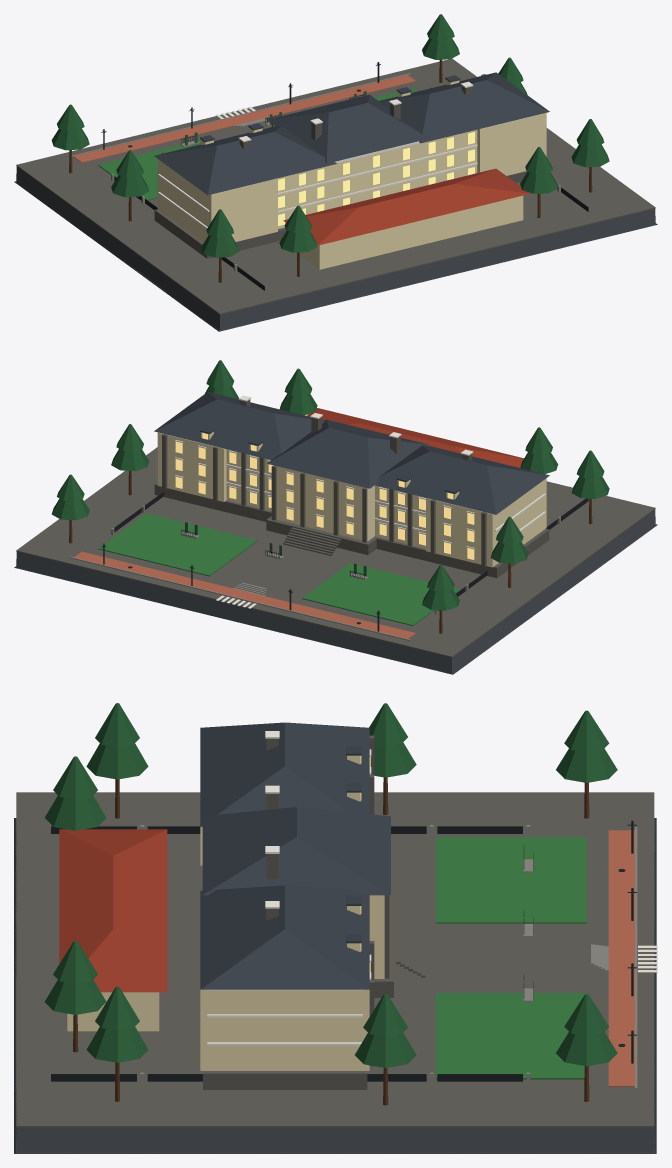
The model's file is lm_29_cuc_ban_do_dalat.glb.
3 renders of one model, top to bottom at view 1: azimuth 30°, elevation 25°; view 2: azimuth 150°, elevation 25°; view 3: azimuth 270°, elevation 25°, orthographic. The views are drawn at different scales.
Parts seen in each view (by area): view 1: Foundation_Plinth_Trim, MapBuilding_Normandy_Ochre_Walls, Foundation_Skirt, MapBuilding_Pine_Canopies, MapBuilding_PrintWorkshop_Hip_Roof, MapBuilding_Wing_Mansard_Slate_Roof_W, MapBuilding_Wing_Mansard_Slate_Roof_E, MapBuilding_Central_Pavilion_Mansard_Roof, Phase2_Interlocking_Brick_Sidewalk, MapBuilding_Glowing_Windows, MapBuilding_Granite_Base_And_Buttresses, MapBuilding_Neoclassical_Trim (+4 smaller); view 2: Foundation_Plinth_Trim, MapBuilding_Normandy_Ochre_Walls, Foundation_Skirt, MapBuilding_Front_Gardens, MapBuilding_Granite_Base_And_Buttresses, MapBuilding_Pine_Canopies, MapBuilding_Wing_Mansard_Slate_Roof_W, MapBuilding_Wing_Mansard_Slate_Roof_E, MapBuilding_Central_Pavilion_Mansard_Roof, MapBuilding_Glowing_Windows, Phase2_Interlocking_Brick_Sidewalk, MapBuilding_PrintWorkshop_Hip_Roof (+3 smaller); view 3: Foundation_Plinth_Trim, MapBuilding_Front_Gardens, MapBuilding_Pine_Canopies, Foundation_Skirt, MapBuilding_Wing_Mansard_Slate_Roof_E, MapBuilding_PrintWorkshop_Hip_Roof, MapBuilding_Normandy_Ochre_Walls, MapBuilding_Central_Pavilion_Mansard_Roof, MapBuilding_Wing_Mansard_Slate_Roof_W, MapBuilding_Granite_Base_And_Buttresses, Phase2_Interlocking_Brick_Sidewalk, Phase2_WroughtIron_Balconies_Railings_Manholes (+4 smaller).
Part boxes in pixels (x1,y1,x2,y2): Foundation_Plinth_Trim: [16, 58, 655, 314]; MapBuilding_Normandy_Ochre_Walls: [157, 80, 546, 269]; Foundation_Skirt: [14, 166, 657, 331]; MapBuilding_Pine_Canopies: [51, 14, 609, 257]; MapBuilding_PrintWorkshop_Hip_Roof: [283, 168, 530, 245]; MapBuilding_Wing_Mansard_Slate_Roof_W: [154, 125, 336, 195]; MapBuilding_Wing_Mansard_Slate_Roof_E: [379, 72, 549, 143]; MapBuilding_Central_Pavilion_Mansard_Roof: [267, 94, 429, 163]; Phase2_Interlocking_Brick_Sidewalk: [73, 75, 415, 162]; MapBuilding_Glowing_Windows: [278, 132, 474, 225]; MapBuilding_Granite_Base_And_Buttresses: [154, 74, 526, 258]; MapBuilding_Neoclassical_Trim: [158, 81, 477, 228]; Foundation_Plinth_Trim: [16, 447, 655, 657]; MapBuilding_Normandy_Ochre_Walls: [157, 431, 546, 567]; Foundation_Skirt: [14, 509, 657, 674]; MapBuilding_Front_Gardens: [98, 513, 459, 625]; MapBuilding_Granite_Base_And_Buttresses: [154, 399, 549, 578]; MapBuilding_Pine_Canopies: [51, 360, 609, 610]; MapBuilding_Wing_Mansard_Slate_Roof_W: [375, 445, 549, 514]; MapBuilding_Wing_Mansard_Slate_Roof_E: [154, 392, 324, 459]; MapBuilding_Central_Pavilion_Mansard_Roof: [267, 419, 429, 488]; MapBuilding_Glowing_Windows: [175, 433, 474, 559]; Phase2_Interlocking_Brick_Sidewalk: [74, 551, 415, 638]; MapBuilding_PrintWorkshop_Hip_Roof: [306, 408, 523, 467]; Foundation_Plinth_Trim: [16, 792, 654, 1127]; MapBuilding_Front_Gardens: [436, 837, 586, 1079]; MapBuilding_Pine_Canopies: [44, 703, 617, 1067]; Foundation_Skirt: [14, 818, 656, 1153]; MapBuilding_Wing_Mansard_Slate_Roof_E: [200, 885, 369, 989]; MapBuilding_PrintWorkshop_Hip_Roof: [59, 829, 167, 992]; MapBuilding_Normandy_Ochre_Walls: [67, 755, 384, 1070]; MapBuilding_Central_Pavilion_Mansard_Roof: [202, 807, 390, 895]; MapBuilding_Wing_Mansard_Slate_Roof_W: [200, 722, 369, 826]; MapBuilding_Granite_Base_And_Buttresses: [203, 735, 425, 1089]; Phase2_Interlocking_Brick_Sidewalk: [608, 830, 634, 1086]; Phase2_WroughtIron_Balconies_Railings_Manholes: [51, 820, 636, 1081].
Bounding box in the file's own units: 94.87 × 22 × 76.85.
